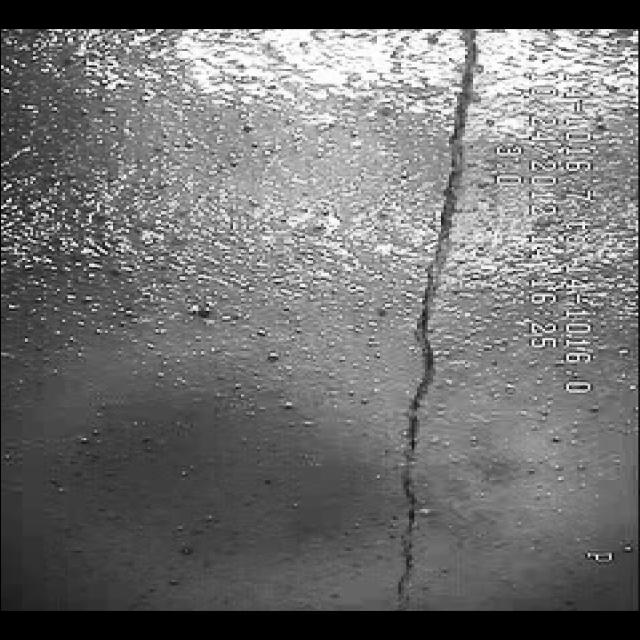Crack: (344, 51, 500, 571)
